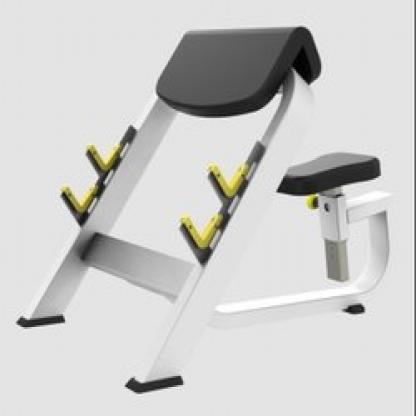arm curl machine: (18, 28, 399, 393)
